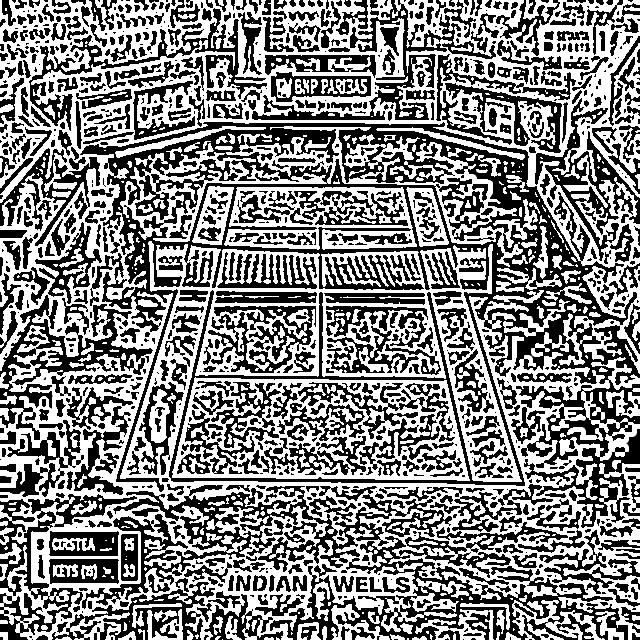left side: (405, 187, 524, 484), (117, 186, 236, 481)
player: (144, 384, 180, 504), (326, 130, 348, 188)
